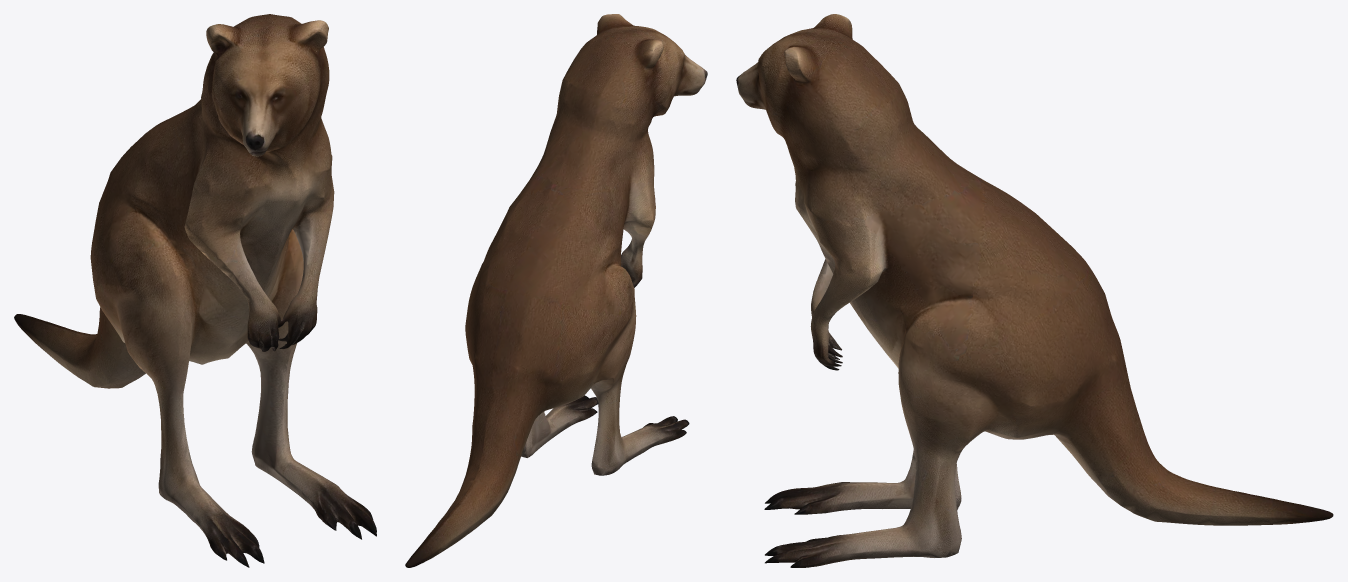
Rendered from kangabear.glb.
3 views of the same model, side by side, from view 1: azimuth 30°, elevation 25°; view 2: azimuth 150°, elevation 25°; view 3: azimuth 270°, elevation 25° (orthographic). The views are drawn at different scales.
Size of the model in its own units: 0.6285 by 1.74 by 1.9.
Materials: 1 (1 with a texture image).
